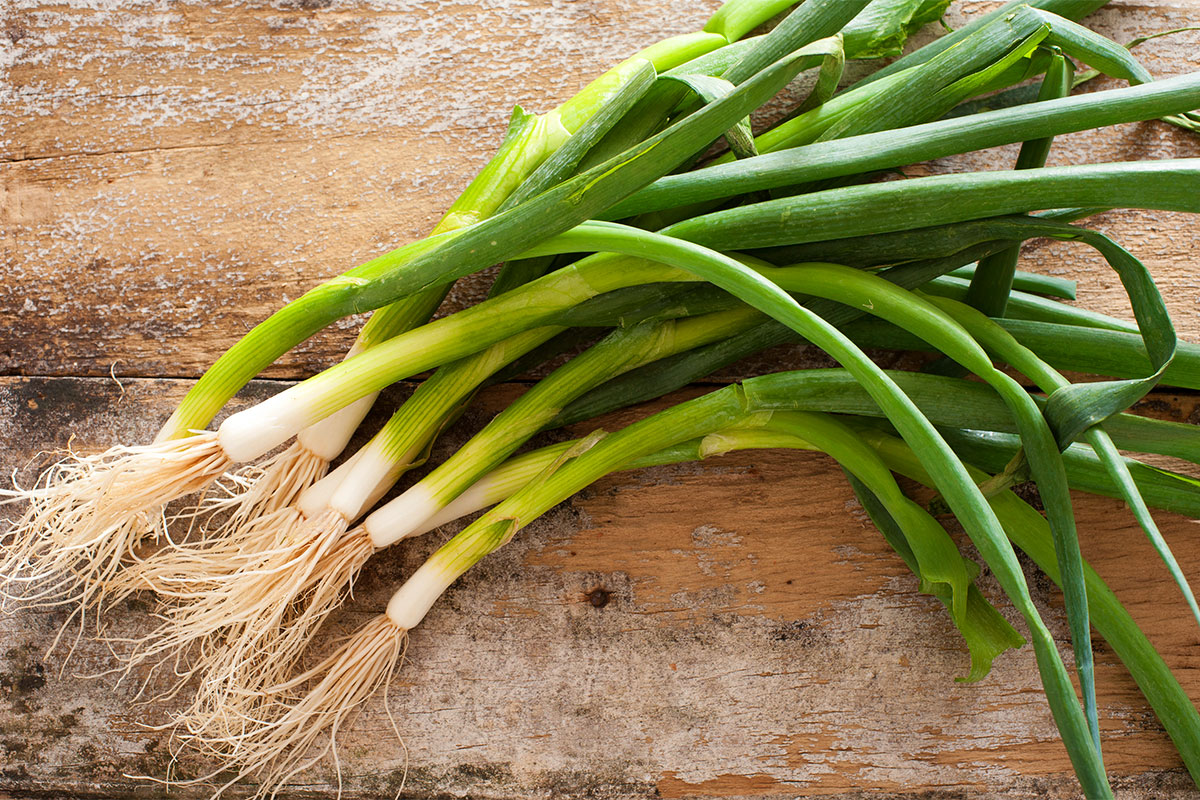Green Onion: (150, 0, 1200, 800)
